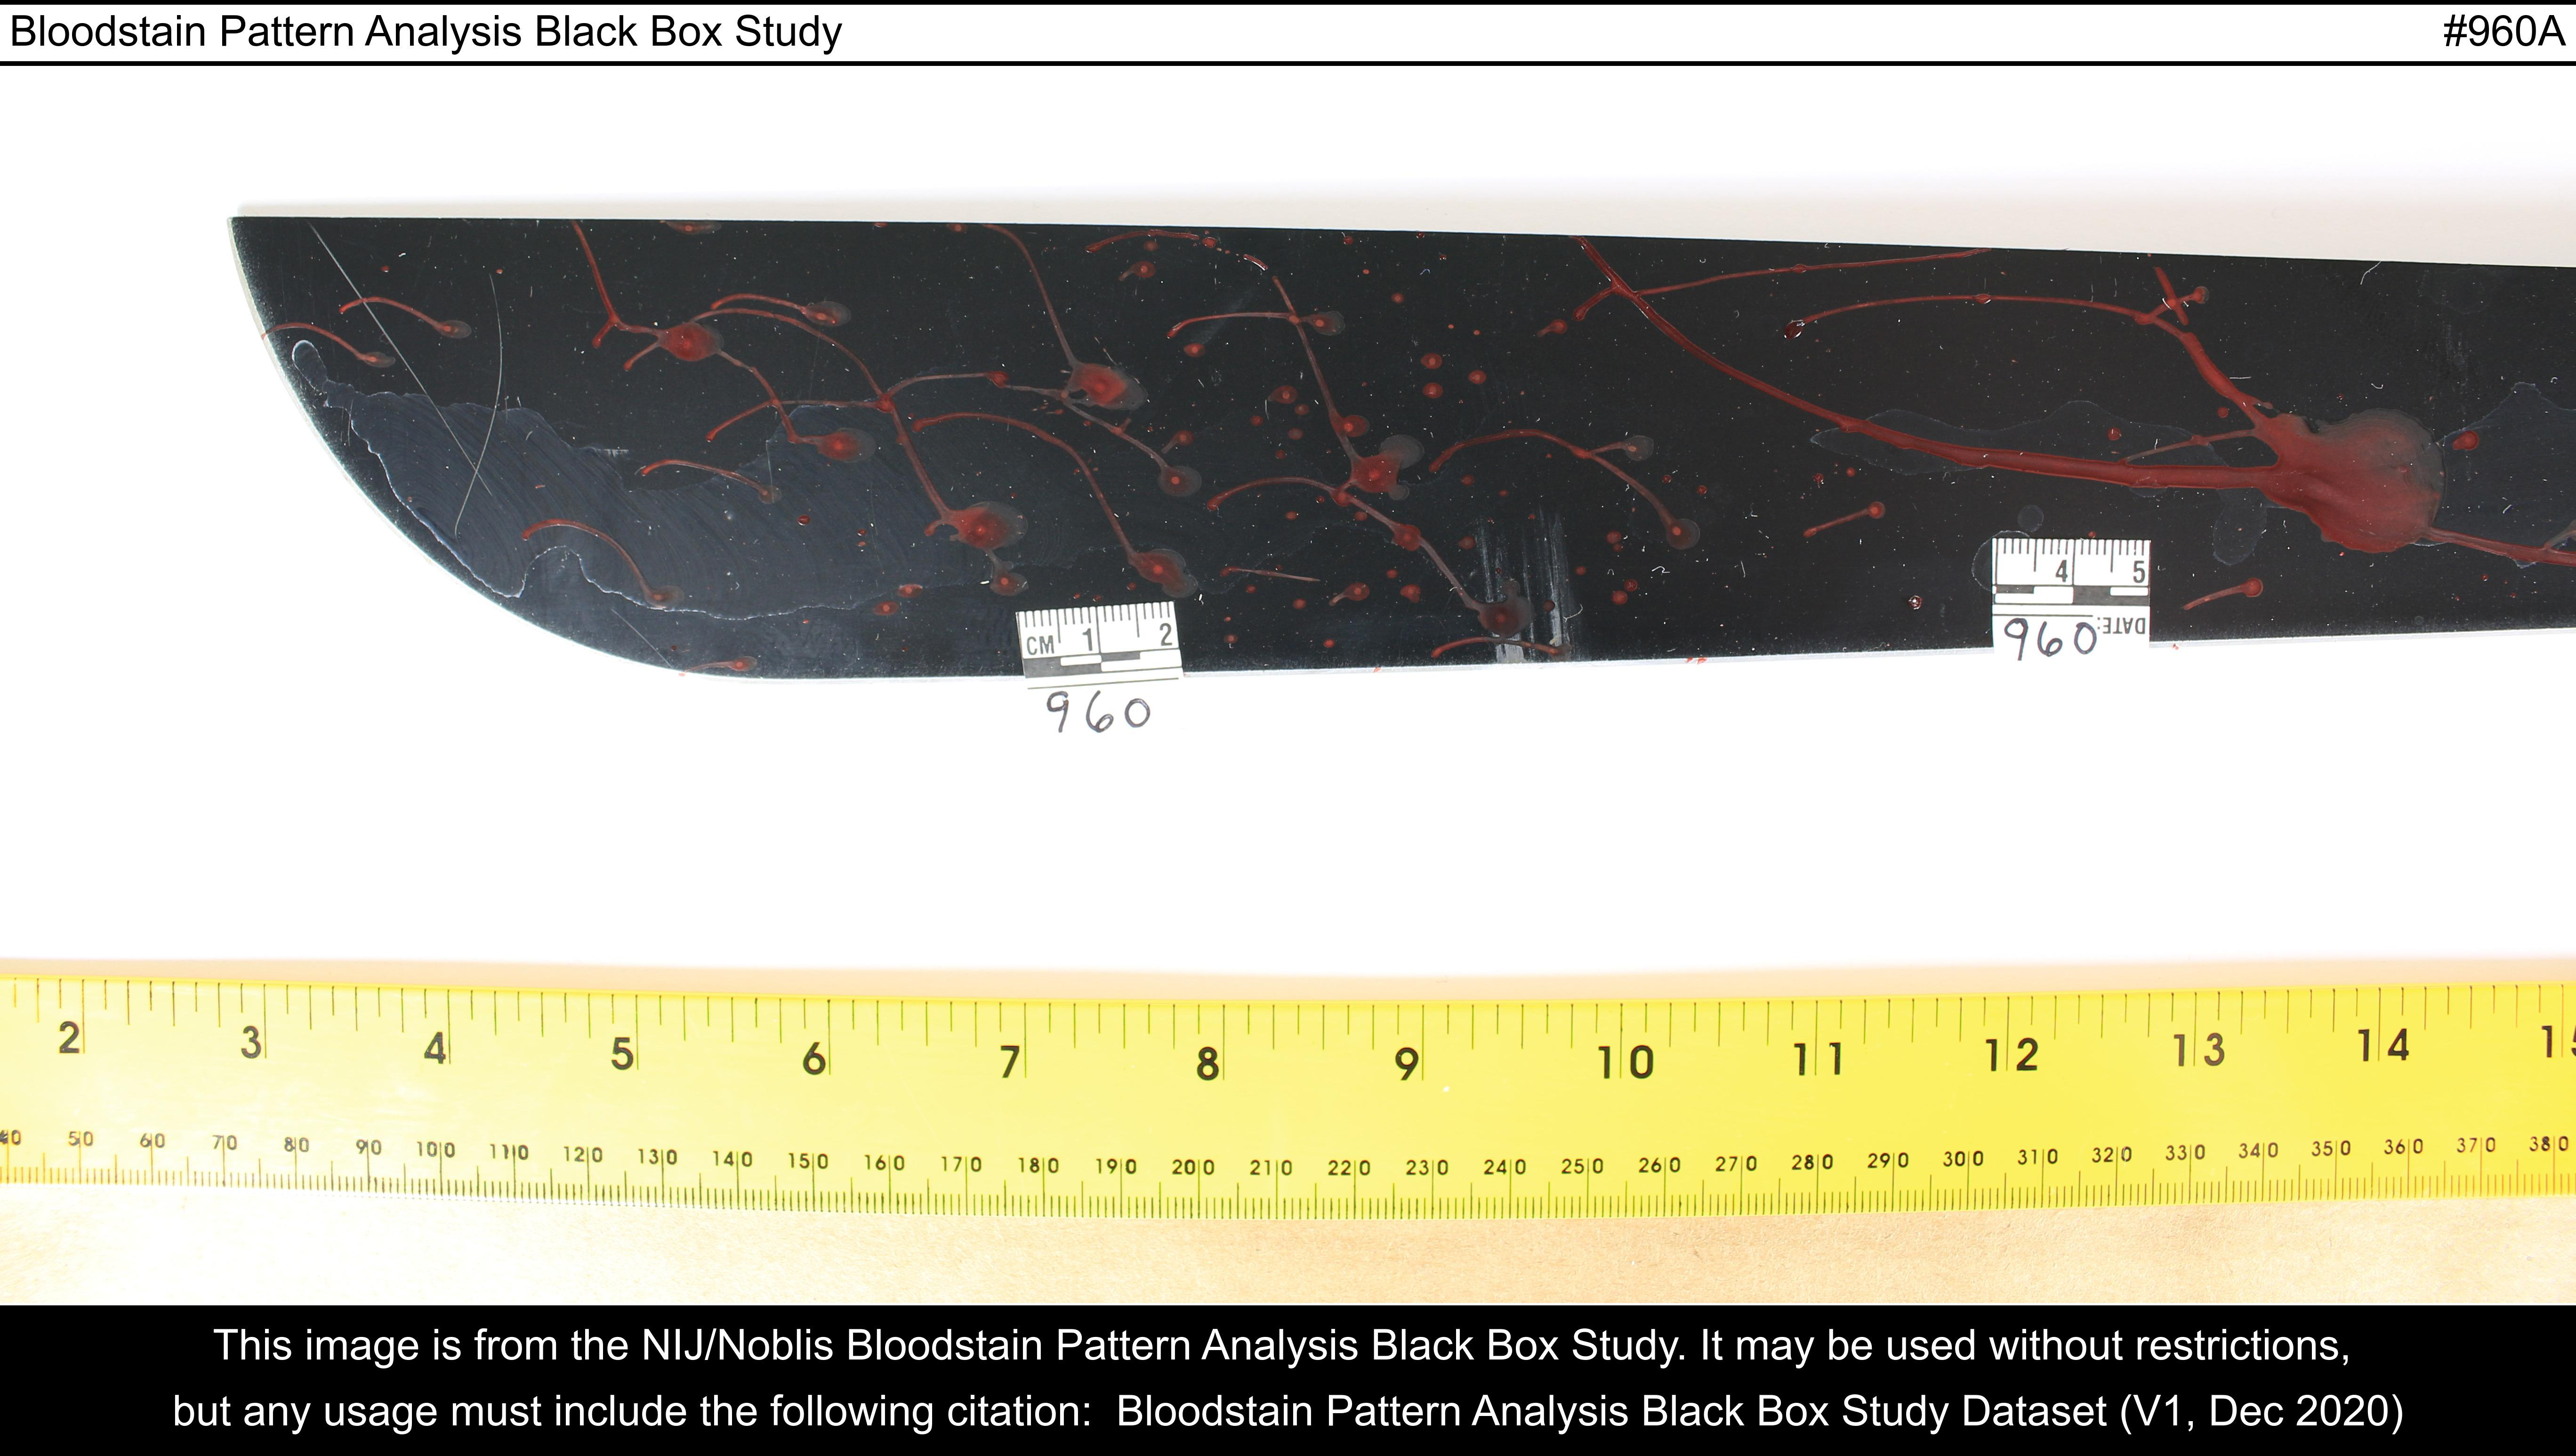Passive: (244, 232, 2557, 663)
